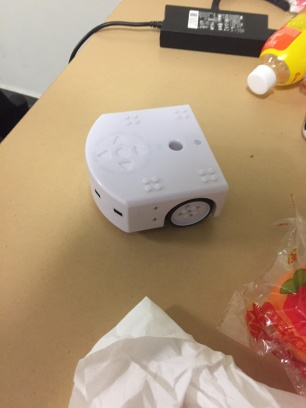thymio: (82, 100, 231, 239)
